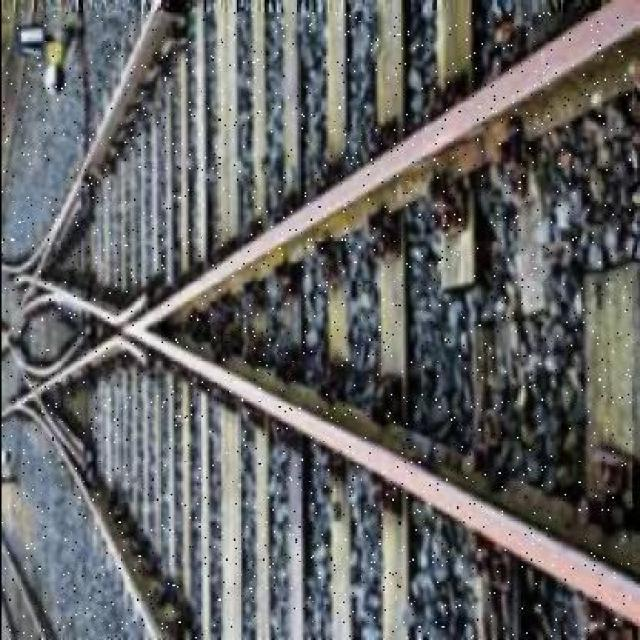rail: (0, 12, 631, 640)
